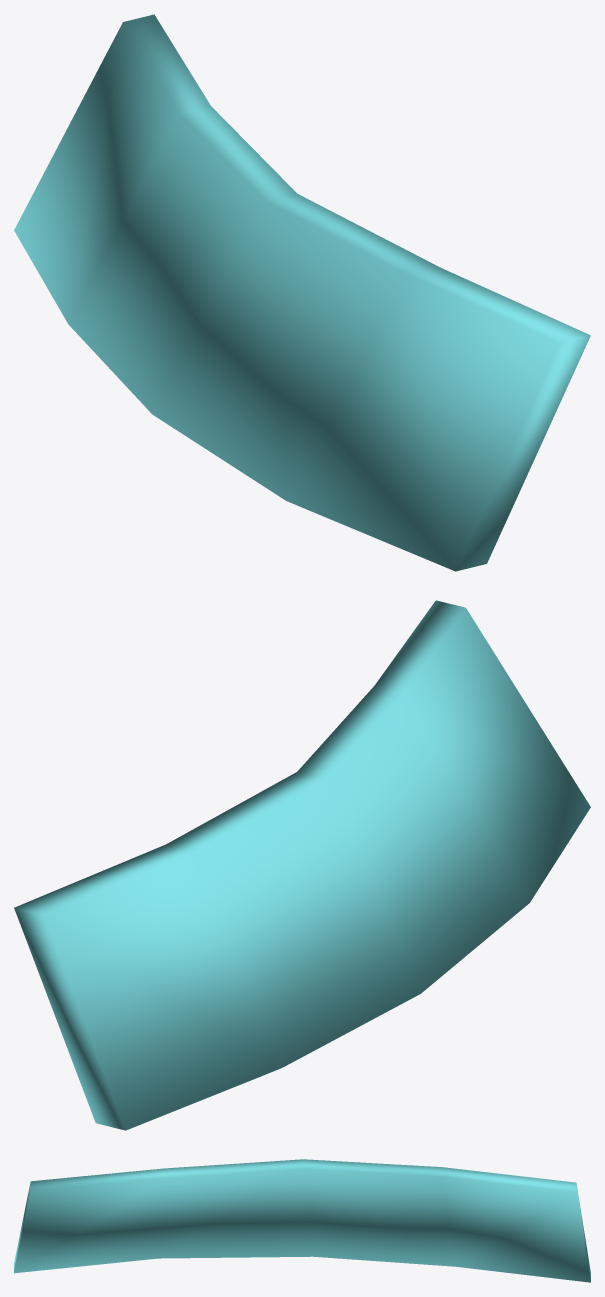
Rendered from ControlRoomWindow.fbx.
The picture shows the model from 3 angles, top to bottom: view 1: azimuth 30°, elevation 25°; view 2: azimuth 150°, elevation 25°; view 3: azimuth 270°, elevation 25°; orthographic projection. The views are drawn at different scales.
Parts seen in each view (by area): view 1: ControlRoomWindow; view 2: ControlRoomWindow; view 3: ControlRoomWindow.
Boxes of the visible parts, x1=… form: ControlRoomWindow: x1=14, y1=14, x2=590, y2=571; ControlRoomWindow: x1=14, y1=600, x2=590, y2=1130; ControlRoomWindow: x1=14, y1=1159, x2=590, y2=1282.
Bounding box in the file's own units: 411 × 359 × 1547.
